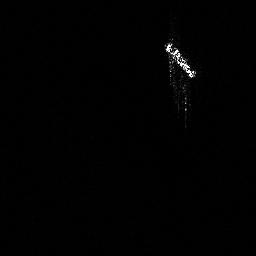ship: (162, 37, 200, 83)
